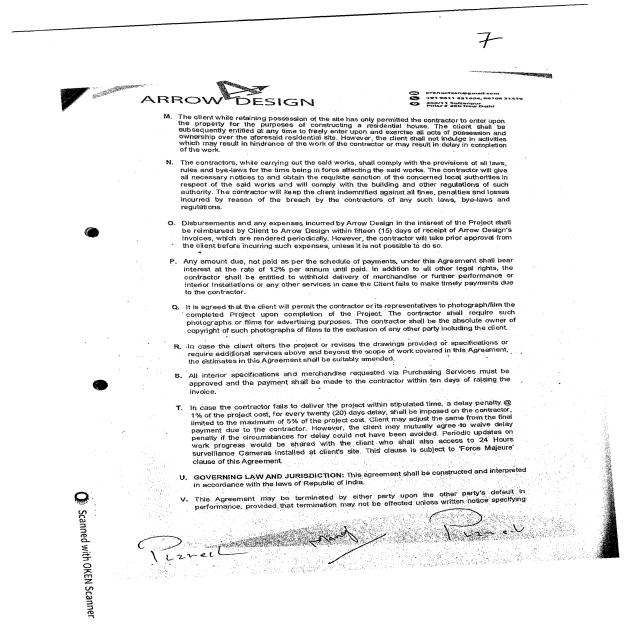page-number: (293, 23, 640, 62)
